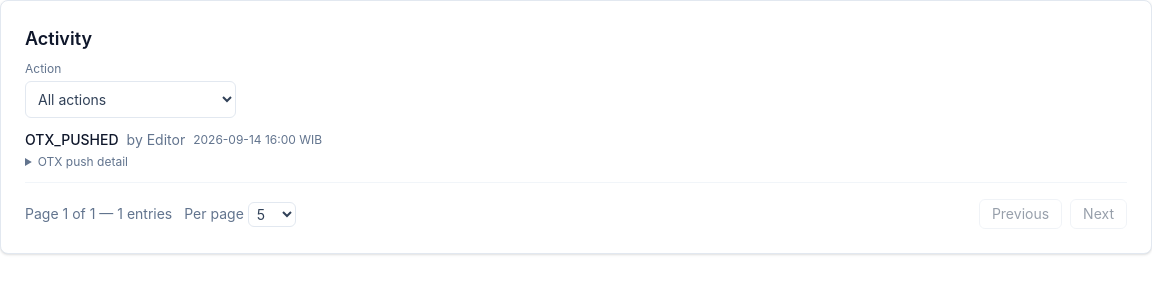
Test: TASK-UIB: activity detail rendering › shows only the pulse id when no confirmed pulse url is available
This screenshot has width=1152, height=292.
Note: Then: the id is shown without an invented link
Click the heading "OTX push detail" at (83, 162), box [38,154,128,169]
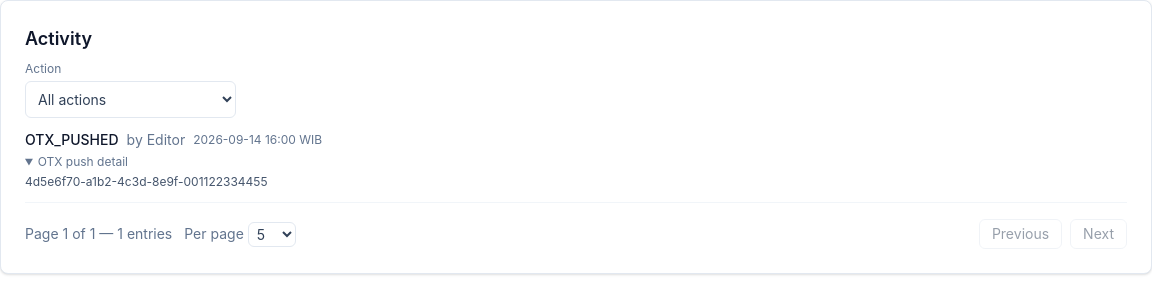
Check: the text "4d5e6f70-a1b2-4c3d-8e9f-001122334455" is shown, box [25,174,268,189]
